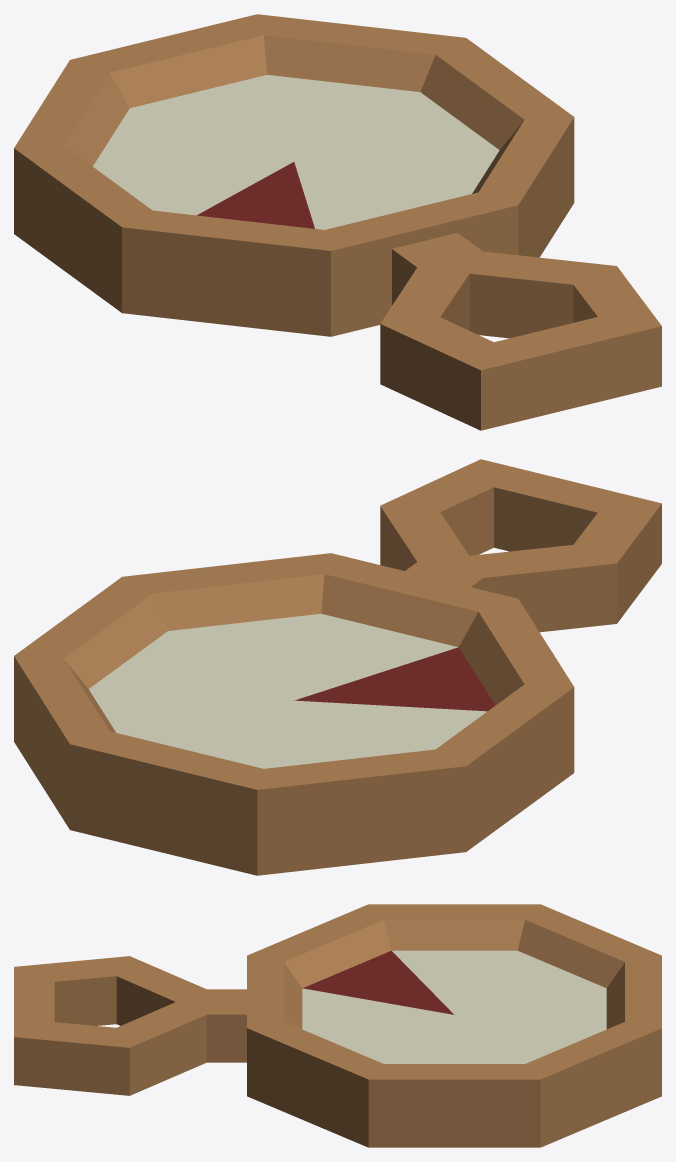
File: Compass.fbx
The picture shows the model from 3 angles, top to bottom: view 1: azimuth 30°, elevation 25°; view 2: azimuth 150°, elevation 25°; view 3: azimuth 270°, elevation 25°; orthographic projection. The views are drawn at different scales.
Visible parts, largest first — view 1: Compass; view 2: Compass; view 3: Compass.
Part boxes in pixels (left/top/right/bottom): Compass: left=14, top=14, right=661, bottom=430; Compass: left=14, top=459, right=661, bottom=875; Compass: left=14, top=904, right=661, bottom=1147.
Size of the model in its own units: 0.1765 by 0.2757 by 0.032.
